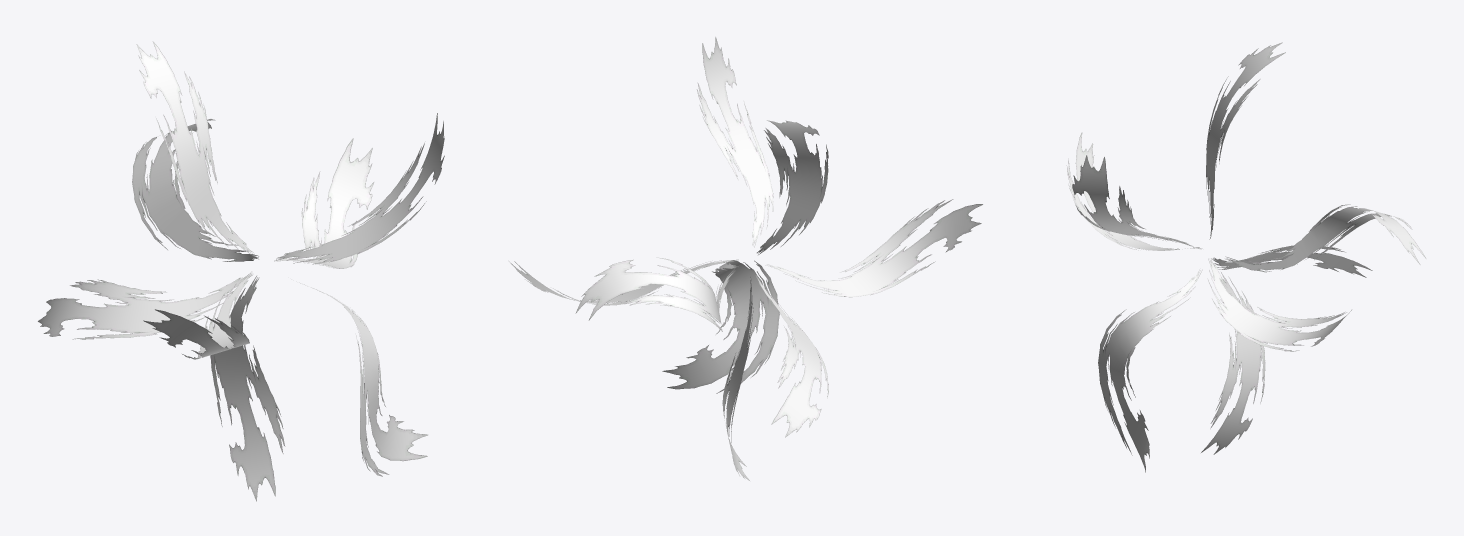
File: qiliu_2.FBX
3 views of the same model, side by side, from view 1: azimuth 30°, elevation 25°; view 2: azimuth 150°, elevation 25°; view 3: azimuth 270°, elevation 25° (orthographic). The views are drawn at different scales.
Parts seen in each view (by area): view 1: qiliu_2; view 2: qiliu_2; view 3: qiliu_2.
Boxes of the visible parts, left/top/right/bottom form: qiliu_2: left=38, top=41, right=444, bottom=501; qiliu_2: left=509, top=37, right=982, bottom=480; qiliu_2: left=1066, top=42, right=1426, bottom=472.
Size of the model in its own units: 329 by 351 by 318.
